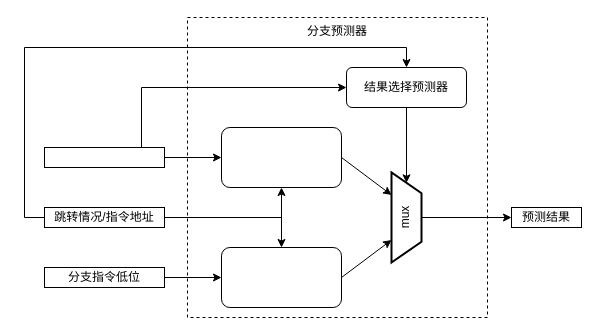
This 599x335 diagram has some shape labels left out. The box of each missing label's shape, as (x1, y1, x2, y2) in pixels:
全局分支预测器: (220, 126, 342, 188)
全局跳转情况: (44, 146, 164, 168)
局部分支预测器: (220, 246, 342, 308)
